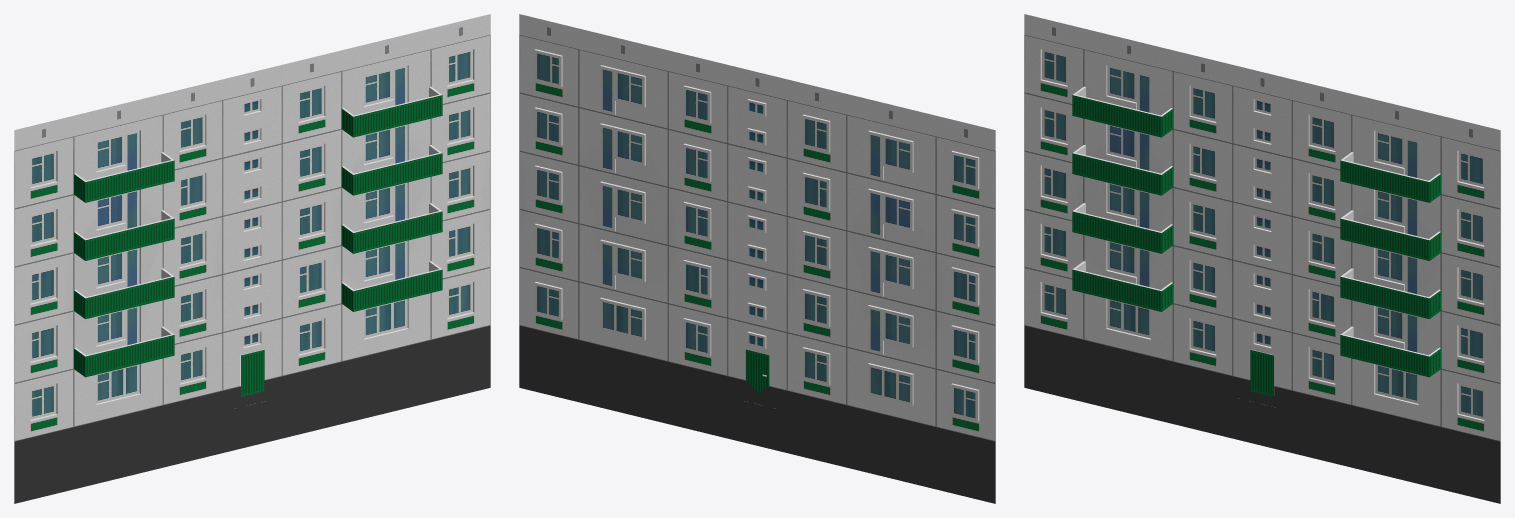
The model's file is 2_min.fbx.
3 views of the same model, side by side, from view 1: azimuth 30°, elevation 25°; view 2: azimuth 150°, elevation 25°; view 3: azimuth 330°, elevation 25° (orthographic).
Visible parts, largest first — view 1: Khrush_mesh; view 2: Khrush_mesh; view 3: Khrush_mesh.
Part boxes in pixels (box(x1,y1,x2,y2)): Khrush_mesh: box(14, 14, 490, 503); Khrush_mesh: box(519, 14, 995, 503); Khrush_mesh: box(1024, 14, 1500, 503).
Size of the model in its own units: 2400 by 1800 by 110.
1 material, 1 textured.
